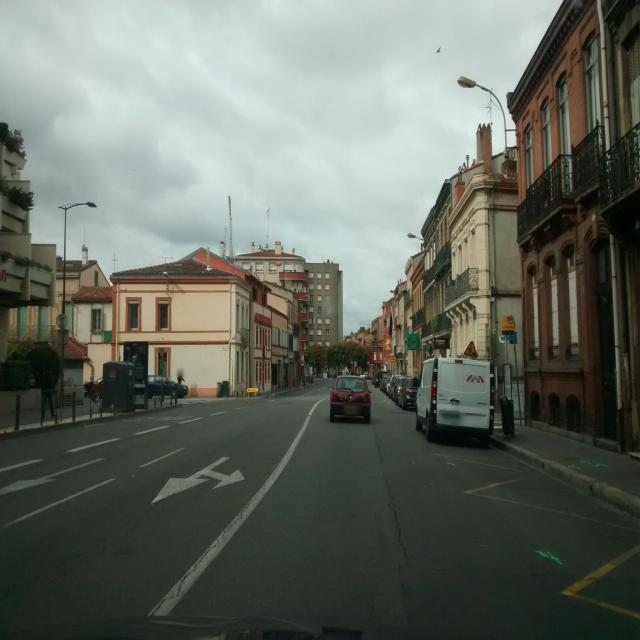car: (329, 375, 372, 423), (146, 375, 190, 399), (400, 376, 420, 410), (388, 374, 407, 400), (83, 378, 104, 400), (381, 373, 392, 392), (374, 371, 386, 386)
